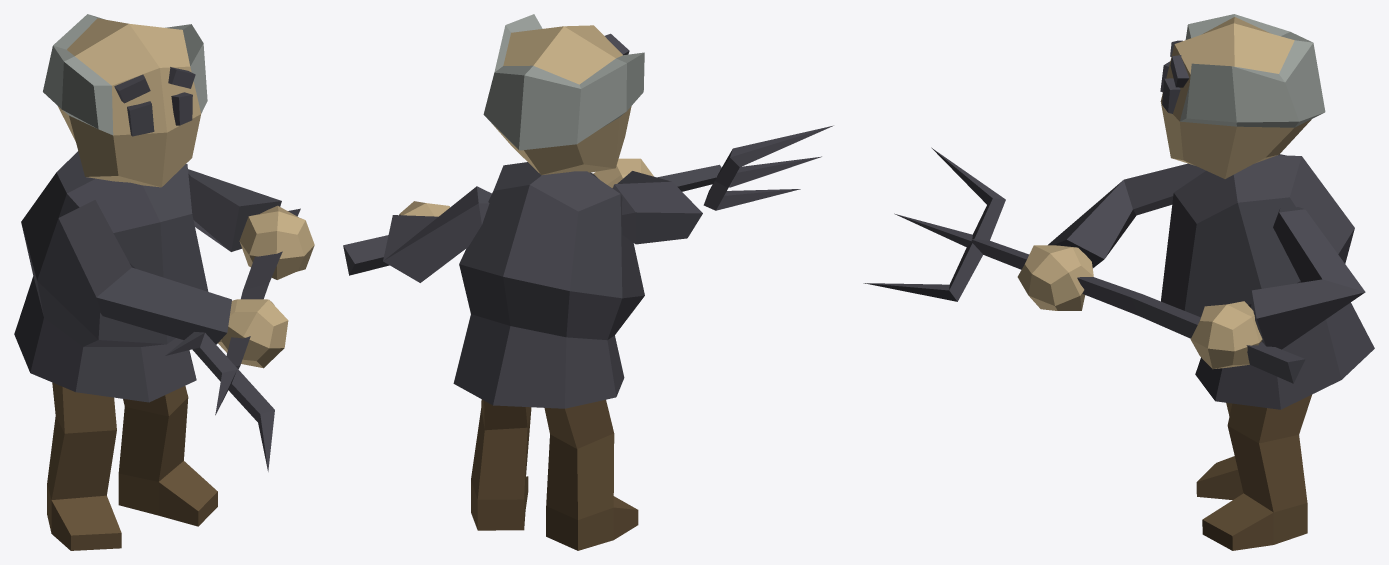
Rendered from fermier.glb.
3 views of the same model, side by side, from view 1: azimuth 30°, elevation 25°; view 2: azimuth 150°, elevation 25°; view 3: azimuth 270°, elevation 25° (orthographic). The views are drawn at different scales.
Parts seen in each view (by area): view 1: man01_0; view 2: man01_0; view 3: man01_0.
Boxes of the visible parts, x1,y1,x2,y2 form: man01_0: (14,14,314,550); man01_0: (343,14,833,550); man01_0: (863,14,1374,550).
Bounding box in the file's own units: 1.12 × 1.67 × 1.6.
Materials: 1 (1 with a texture image).
